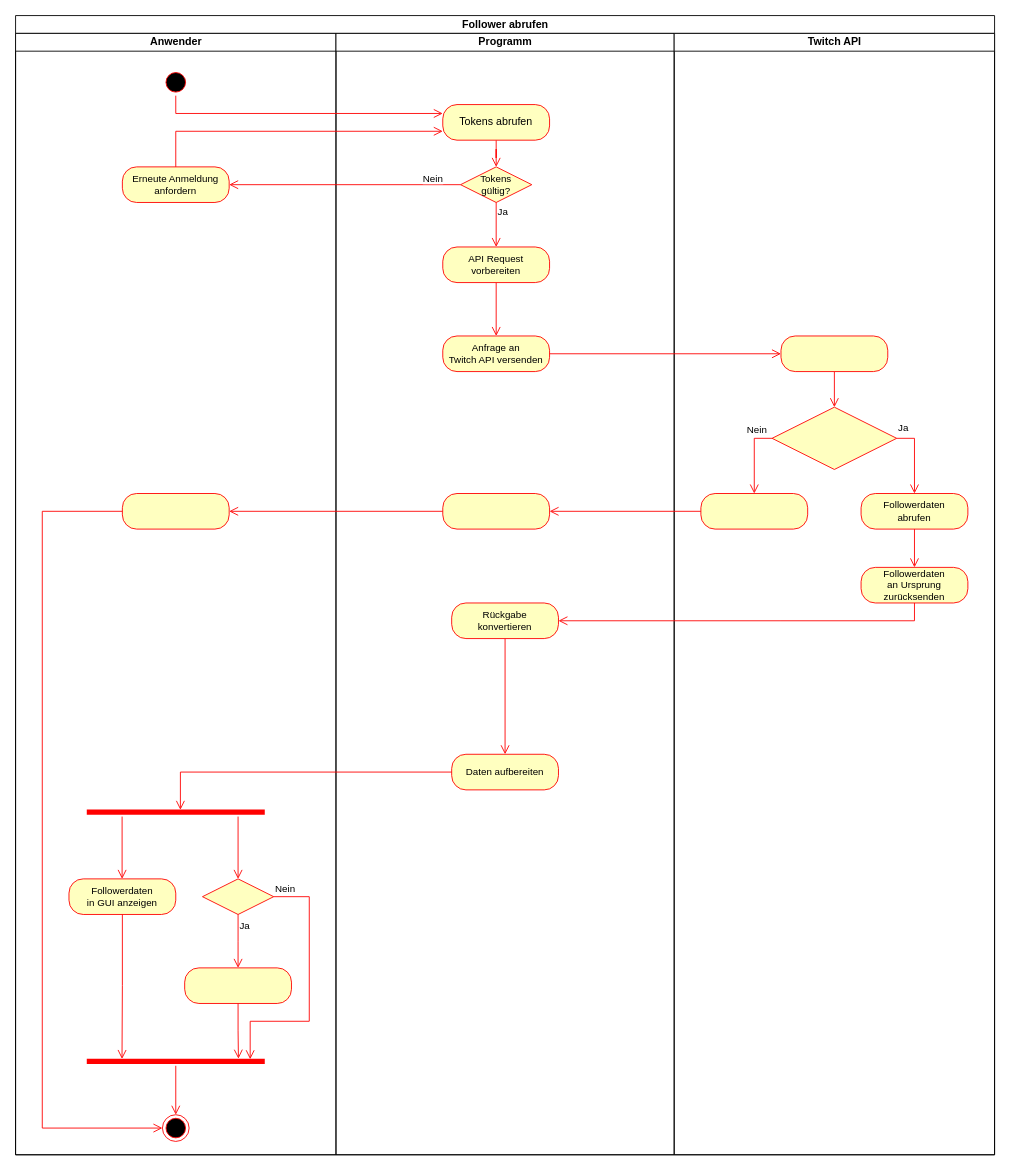
Some shapes in this 1010 by 1170 pixel diagram are drawn without their labels. The centre of each missing label's shape, as x and y in pixels:
Anfrage / Token gültig?: the point at 834,437
Anfrage empfangen: the point at 834,353
Fehlermeldung anzeigen: the point at 175,511
Fehlermeldung empfangen und verarbeiten: the point at 496,511
Fehlermeldung zurückgeben: the point at 754,511
Meldung über neue Follower in GUI anzeigen: the point at 237,985
Neue Follower?: the point at 238,896
